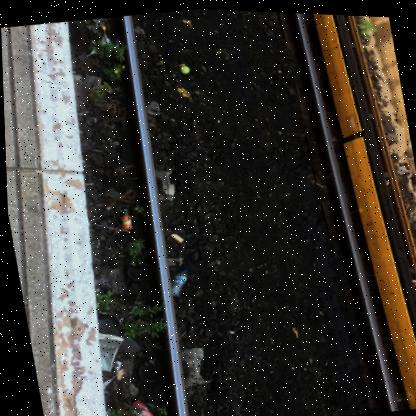Metal: (214, 258, 217, 262)
Paper: (95, 331, 120, 370), (99, 359, 118, 388), (394, 162, 409, 174)
Plastic: (168, 267, 185, 295), (128, 398, 149, 416), (91, 223, 128, 231), (118, 208, 130, 229), (99, 25, 109, 43), (168, 231, 181, 241), (178, 64, 188, 72)
Waste: (94, 313, 137, 351), (409, 276, 415, 283), (383, 175, 387, 181), (83, 182, 91, 184), (196, 138, 201, 141), (87, 240, 92, 243), (104, 224, 107, 228)
